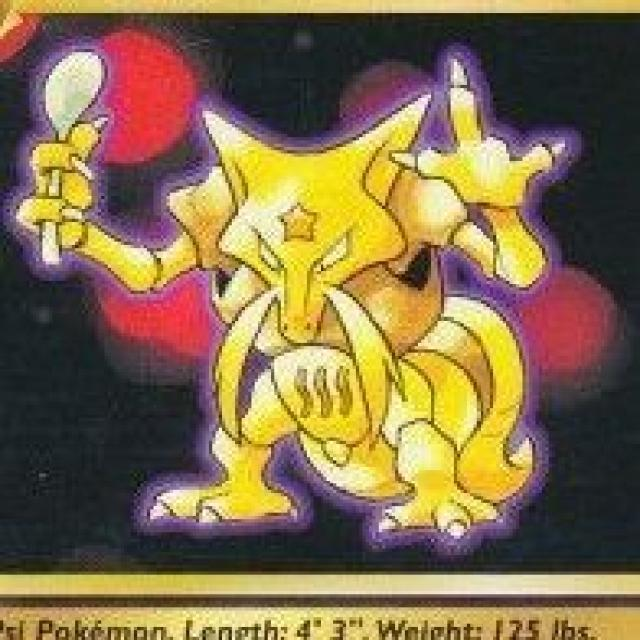Kadabra: (141, 101, 514, 536)
